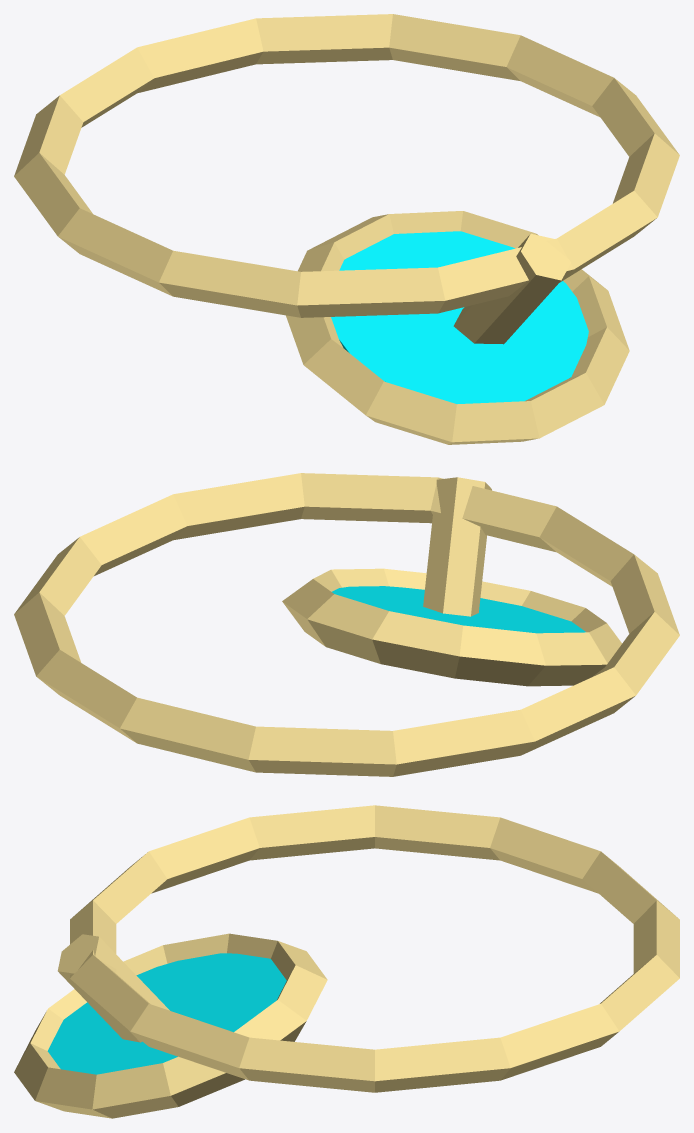
The model's file is sig_dragon.glb.
3 views of the same model, one above another, from view 1: azimuth 30°, elevation 25°; view 2: azimuth 150°, elevation 25°; view 3: azimuth 270°, elevation 25° (orthographic). The views are drawn at different scales.
Parts seen in each view (by area): view 1: Torus, Torus.001, Cylinder, Cylinder.001; view 2: Torus, Torus.001, Cylinder.001, Cylinder; view 3: Torus, Torus.001, Cylinder, Cylinder.001.
Part boxes in pixels (x1,y1,x2,y2): Torus: (14,14,679,317); Torus.001: (286,211,629,444); Cylinder: (331,231,588,404); Cylinder.001: (453,233,570,344); Torus: (14,473,679,776); Torus.001: (282,568,621,686); Cylinder.001: (423,477,491,616); Cylinder: (332,586,585,633); Torus: (70,805,679,1092); Torus.001: (14,933,327,1118); Cylinder: (47,953,286,1074); Cylinder.001: (57,934,169,1042).
Size of the model in its own units: 0.368 by 0.1085 by 0.3916.
